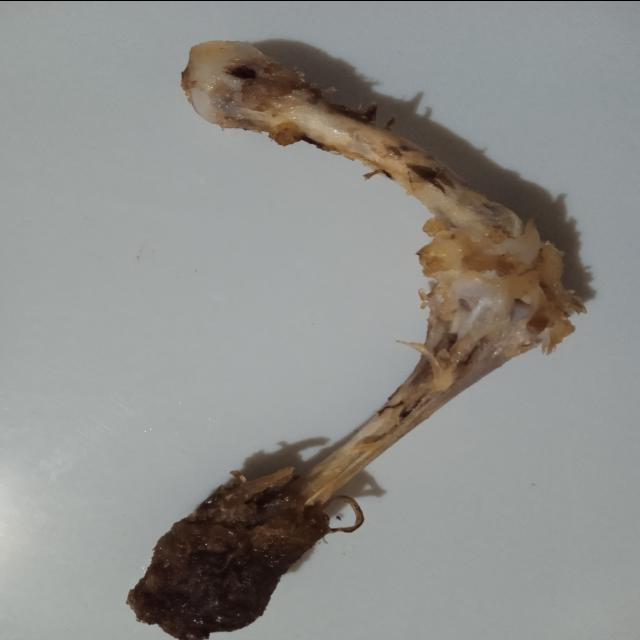bone: (118, 36, 591, 640)
